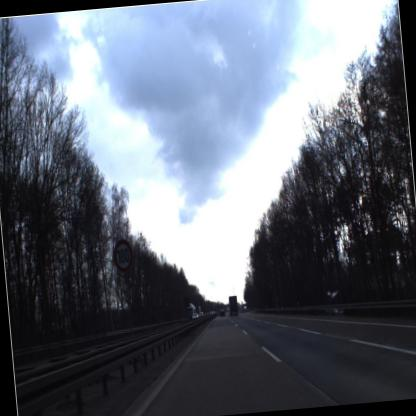prohibitory: (108, 230, 140, 280)
